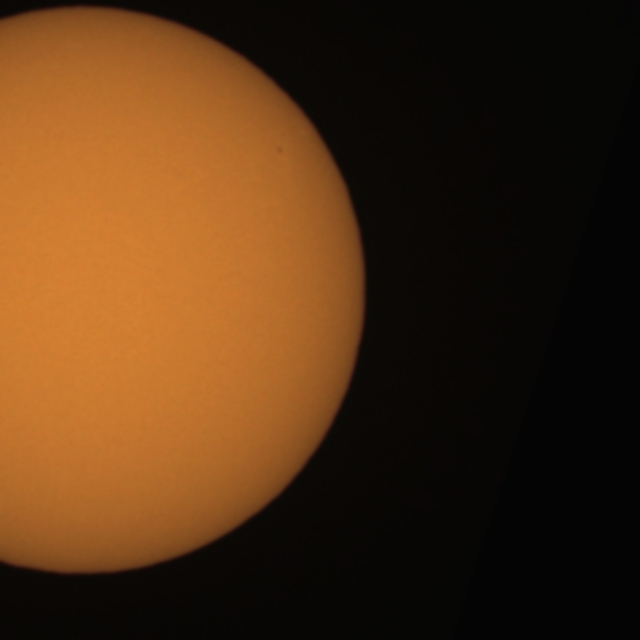sunspot: (274, 143, 286, 157)
